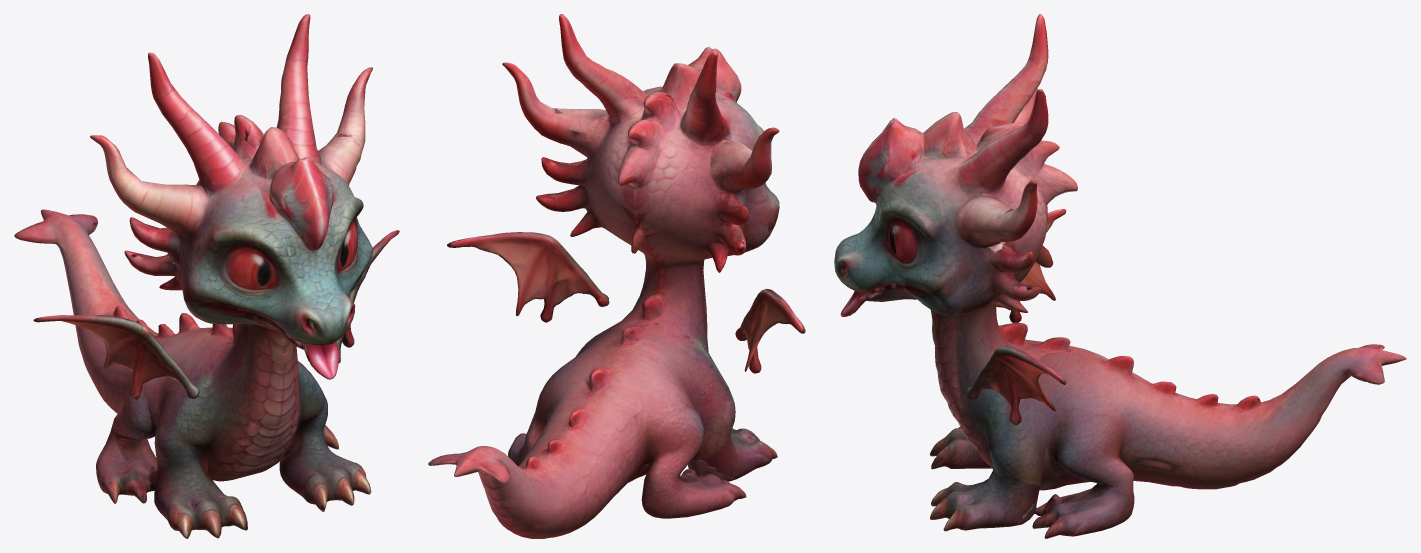
File: dragon.glb
The picture shows the model from 3 angles, left to right: view 1: azimuth 30°, elevation 25°; view 2: azimuth 150°, elevation 25°; view 3: azimuth 270°, elevation 25°; orthographic projection. The views are drawn at different scales.
Bounding box in the file's own units: 1.45 × 1.7 × 2.02.
Materials: 1 (1 with a texture image).
